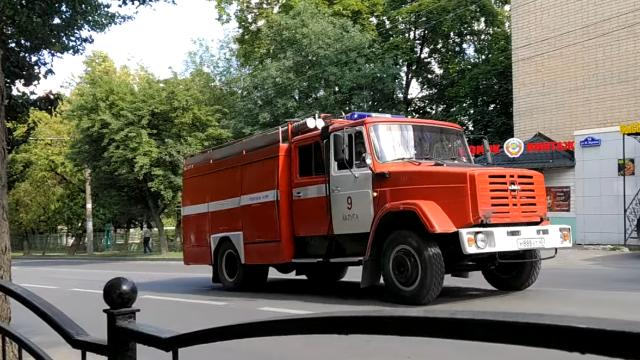fire fighting vehicle: (181, 114, 573, 307)
